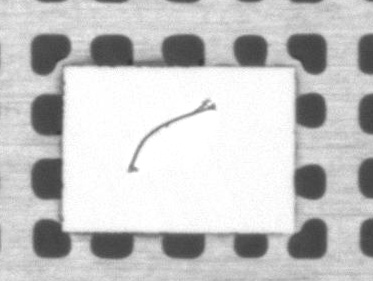DIE_INK: (163, 72, 291, 133)
